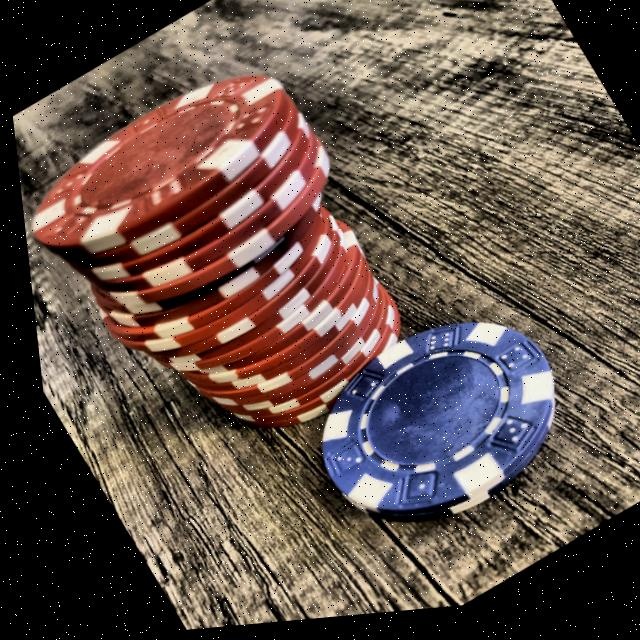Chip: (3, 2, 470, 530), (238, 259, 613, 590)
